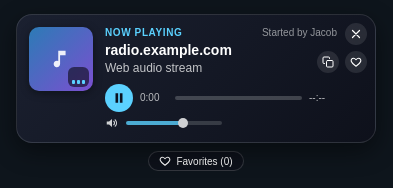
Test case: RoomStreamWidgetView › copies the song link from the copy button
The image size is (393, 188).
Click the button named "Copy the song link": (328, 62) top-left (317, 51), bottom-right (339, 73)
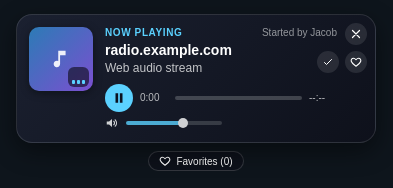
Expected: the button named "Link copied" is shown, top-left (317, 51), bottom-right (339, 73)
